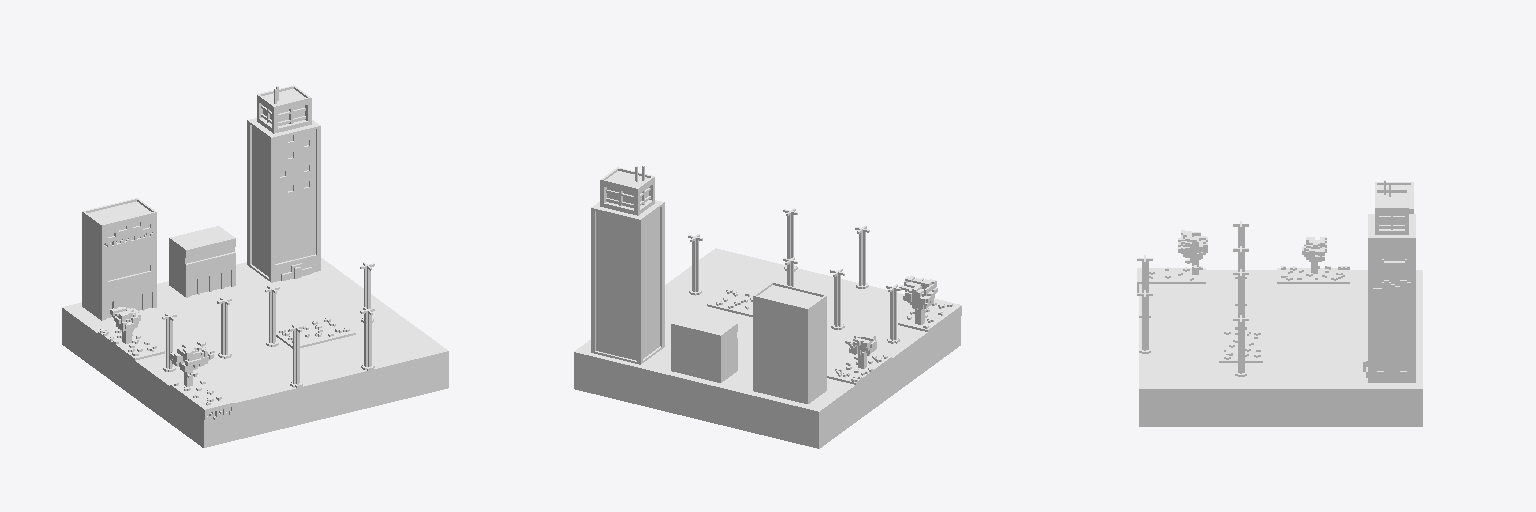
Rendered from estacionamiento-1.obj.
The picture shows the model from 3 angles: view 1: azimuth 30°, elevation 25°; view 2: azimuth 150°, elevation 25°; view 3: azimuth 270°, elevation 25°; orthographic projection.
Visible parts, largest first — view 1: object 1; view 2: object 1; view 3: object 1.
Boxes of the visible parts, x1,y1,x2,y2 form: object 1: [62, 85, 448, 447]; object 1: [574, 166, 961, 448]; object 1: [1137, 180, 1422, 426].
Size of the model in its own units: 12.4 by 10.7 by 12.5.